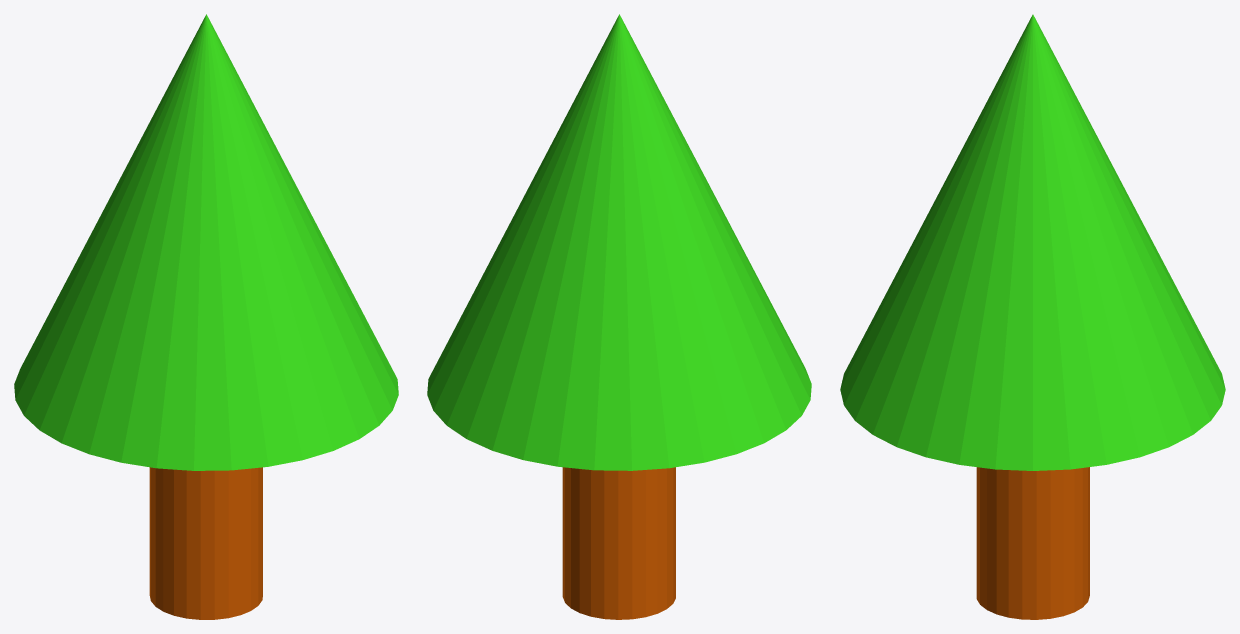
File: winterTree.glb
3 renders of one model, left to right at view 1: azimuth 30°, elevation 25°; view 2: azimuth 150°, elevation 25°; view 3: azimuth 270°, elevation 25°, orthographic.
Visible parts, largest first — view 1: Cone, Cylinder; view 2: Cone, Cylinder; view 3: Cone, Cylinder.
Boxes of the visible parts, <box> form: Cone: <box>14,14,398,470</box>; Cylinder: <box>149,467,262,619</box>; Cone: <box>427,14,811,470</box>; Cylinder: <box>562,467,675,619</box>; Cone: <box>840,14,1225,470</box>; Cylinder: <box>976,467,1089,619</box>.
Size of the model in its own units: 6.78 by 11.3 by 6.78.
